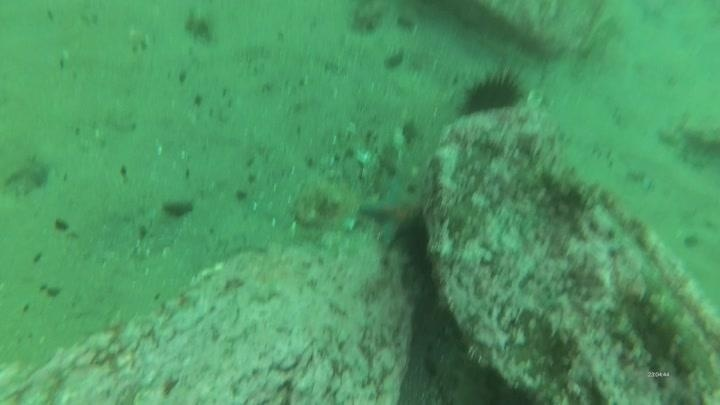echinus: (456, 69, 525, 118)
starfish: (359, 174, 427, 250)
